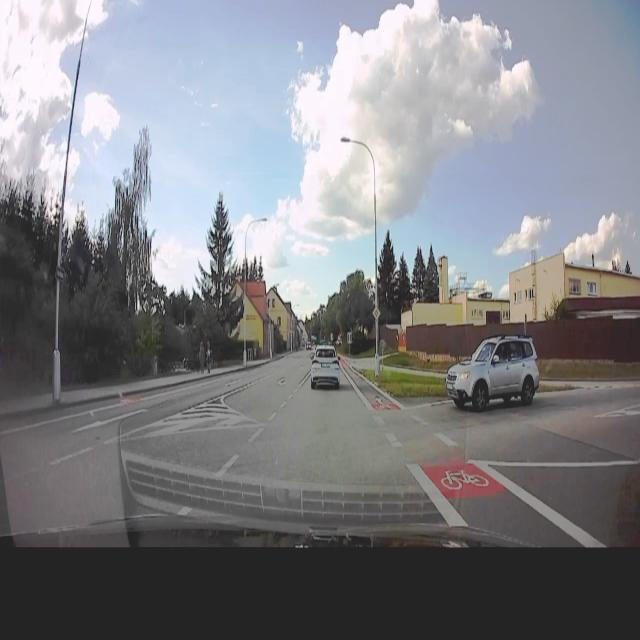Priority road: (371, 303, 381, 321)
